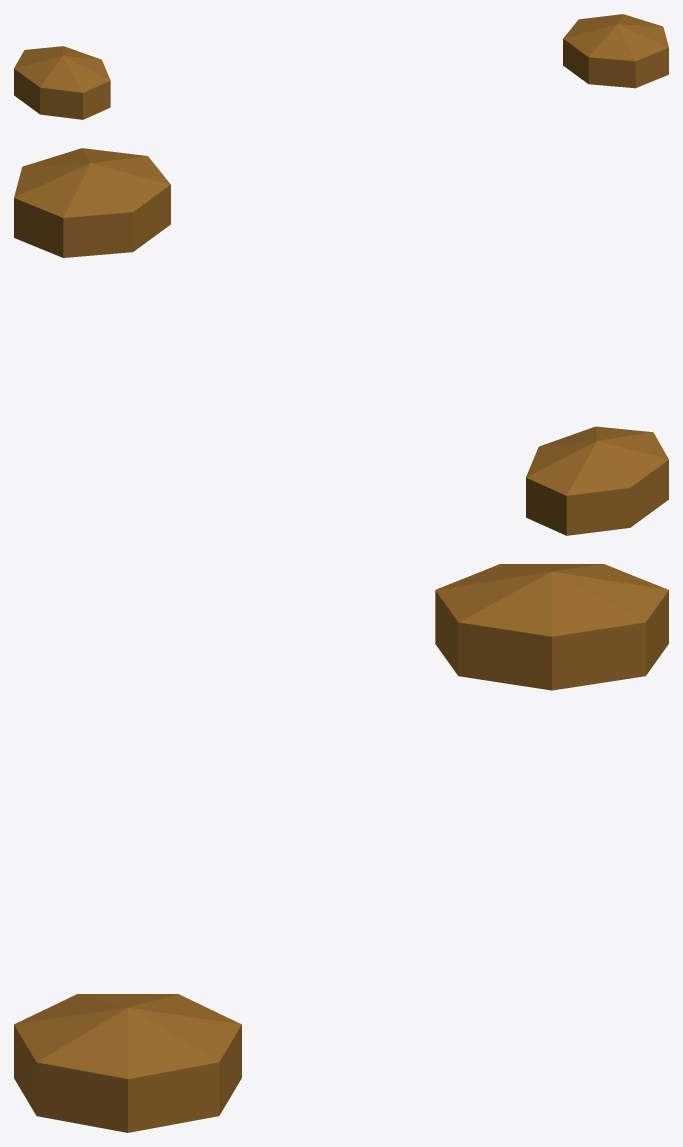
The model's file is fd_sap__3.glb.
3 renders of one model, top to bottom at view 1: azimuth 30°, elevation 25°; view 2: azimuth 150°, elevation 25°; view 3: azimuth 270°, elevation 25°, orthographic. The views are drawn at different scales.
Visible parts, largest first — view 1: block_bead (×2); view 2: block_bead (×2); view 3: block_bead (×2).
Part boxes in pixels (bbox=[...]): block_bead (×2): bbox=[14, 14, 668, 119]; block_bead (×2): bbox=[14, 148, 668, 535]; block_bead (×2): bbox=[14, 564, 668, 1132].
Size of what is drawn, in the model's own units: 0.3696 by 0.036 by 0.1986.
Materials: 1 (1 with a texture image).
